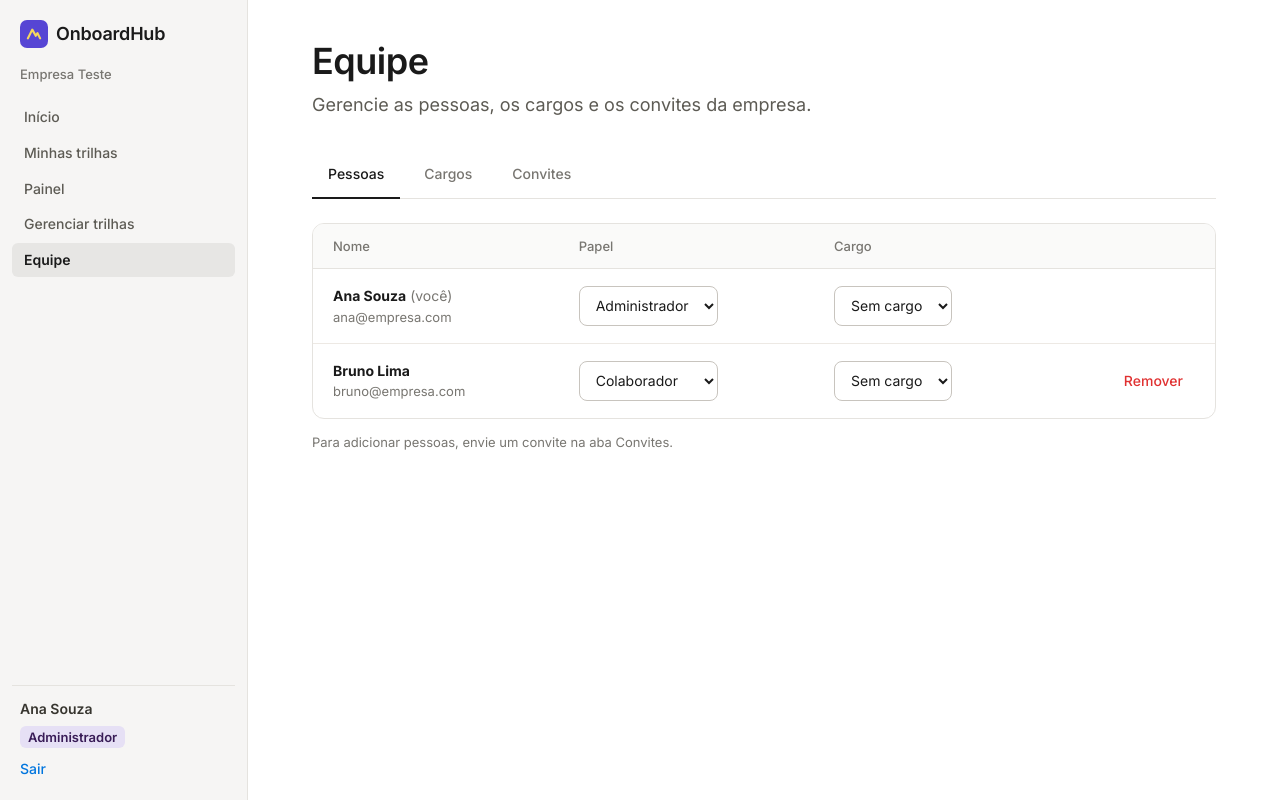
Test: equipe: pessoas › mostra o erro quando a API recusa a mudança
This screenshot has width=1280, height=800.
Select "Colaborador" in the dropdown named "Papel de Ana Souza" at (648,306), box [579,286,718,326]
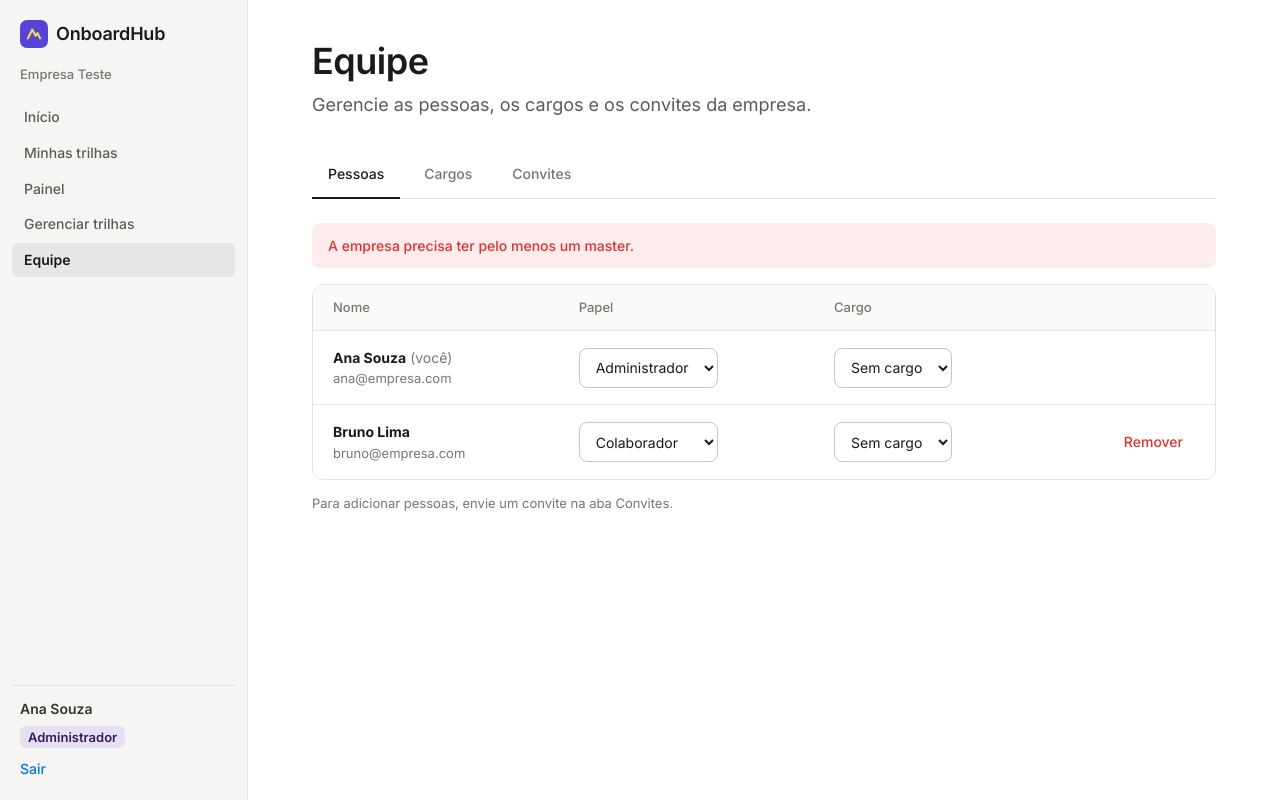
Expected: the message reads "A empresa precisa ter pelo menos um master.", [328,237,634,254]
